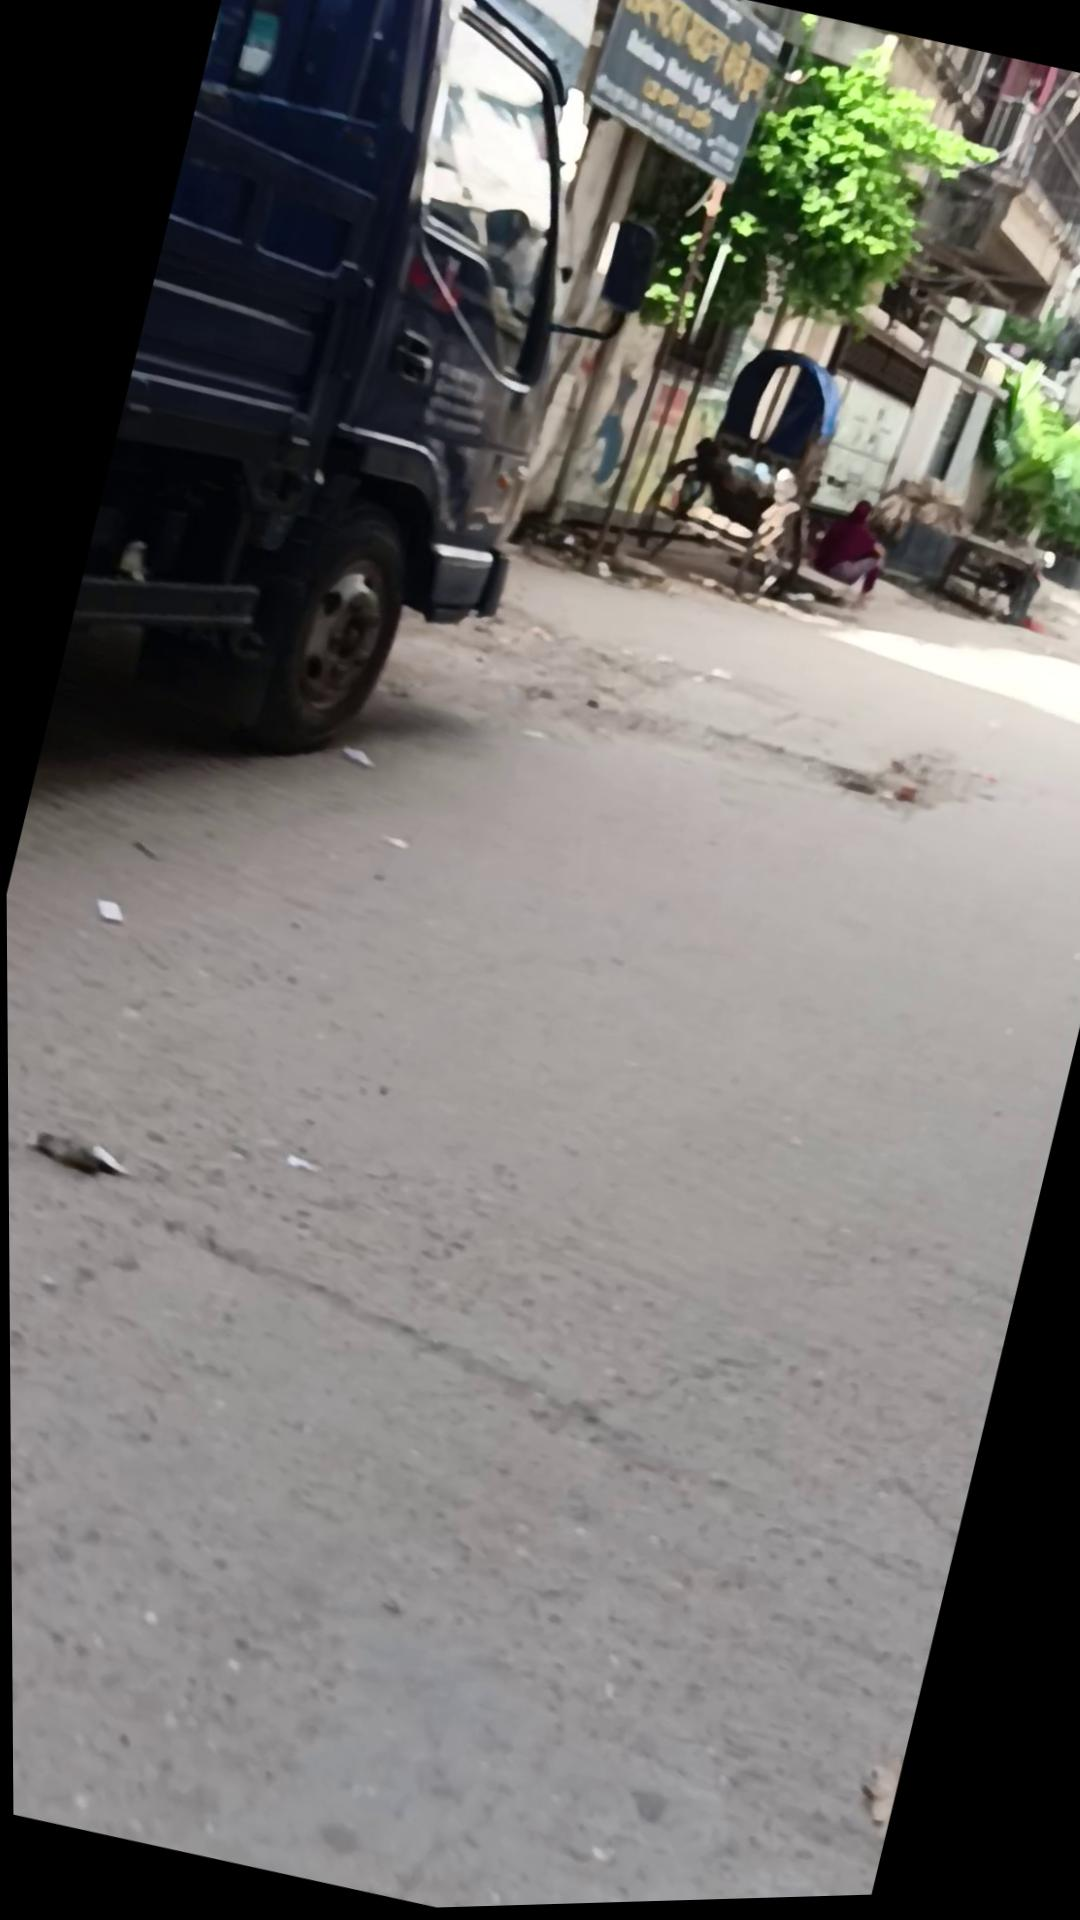Muddy road: (802, 495, 898, 615)
Traffic-cone: (568, 0, 951, 621)
Traffic-sign: (47, 0, 675, 812)
